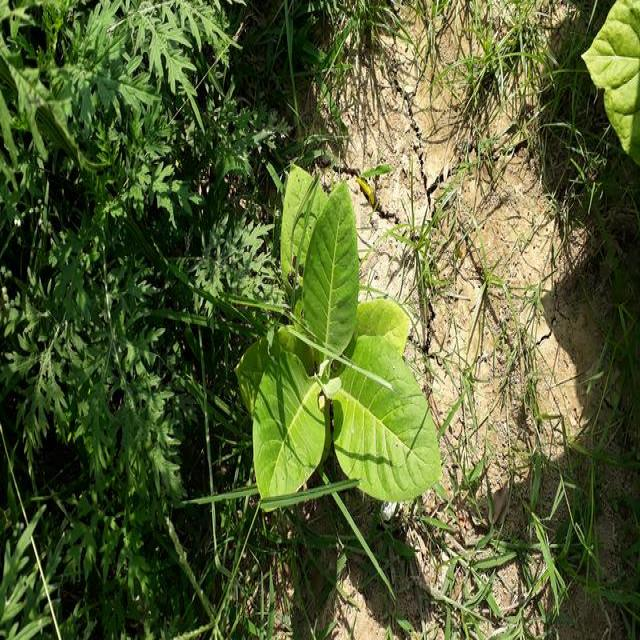crop: (246, 164, 436, 505), (578, 0, 640, 159)
